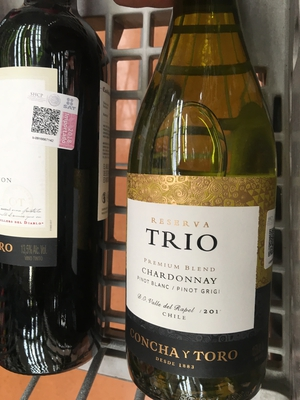trio chardonnay: (120, 33, 278, 400)
